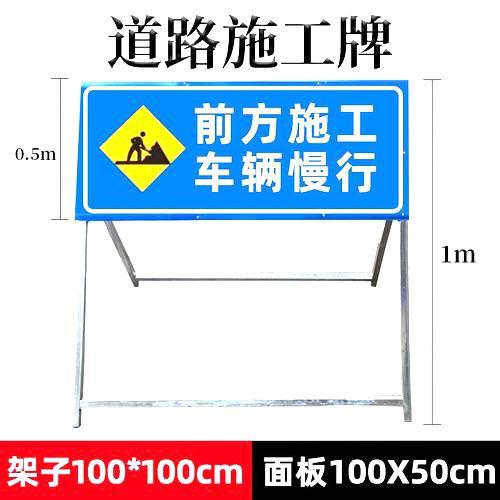sign: (81, 82, 407, 219)
